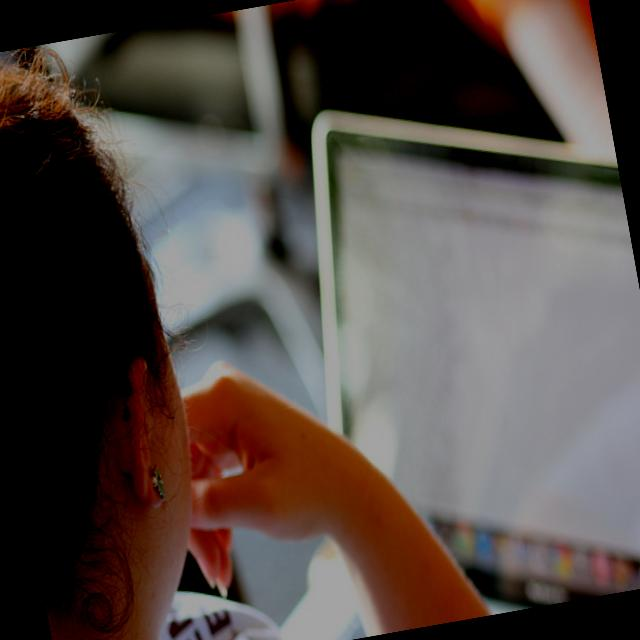Vehicle: (0, 0, 569, 378), (83, 67, 372, 640)
